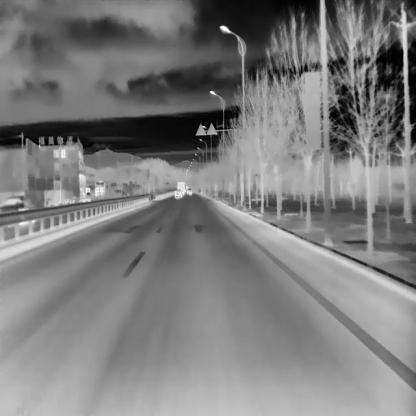car: (0, 192, 38, 213), (176, 180, 185, 196), (174, 188, 183, 198), (187, 187, 191, 194)
